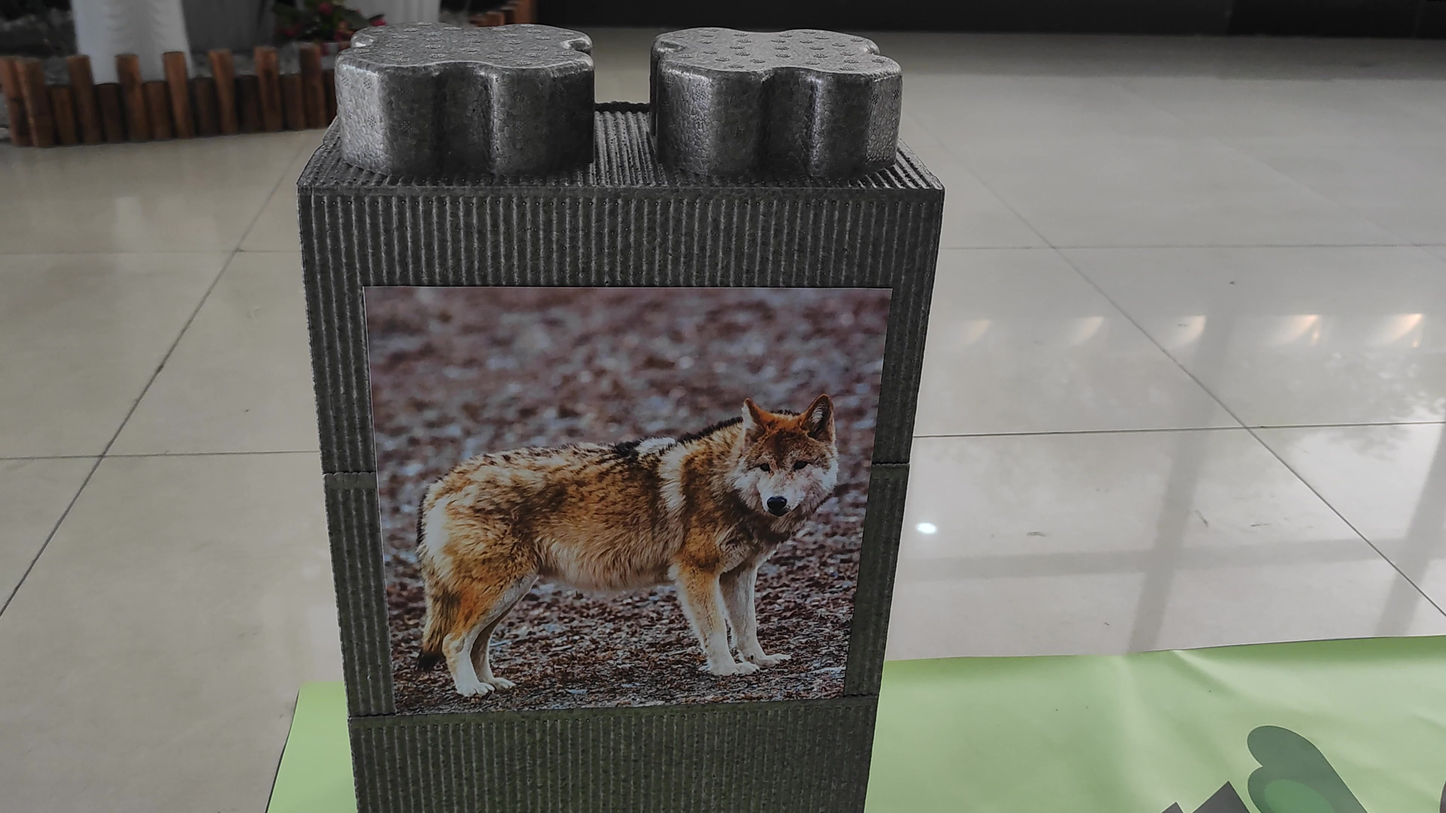wolf: (365, 343, 839, 691)
